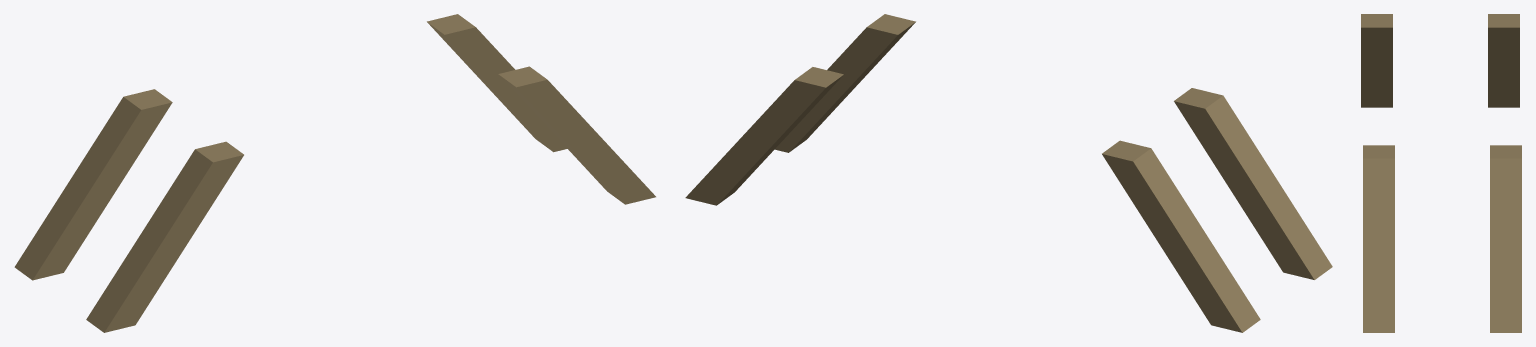
The model's file is TableLegs.fbx.
3 views of the same model, side by side, from view 1: azimuth 30°, elevation 25°; view 2: azimuth 150°, elevation 25°; view 3: azimuth 270°, elevation 25° (orthographic). The views are drawn at different scales.
Parts seen in each view (by area): view 1: pCube7, pCube8, pCube9, pCube10; view 2: pCube7, pCube8, pCube10, pCube9; view 3: pCube9, pCube10, pCube7, pCube8.
Boxes of the visible parts, x1,y1,x2,y2 form: pCube7: (14,89,172,280); pCube8: (86,141,243,332); pCube9: (498,66,655,204); pCube10: (427,14,567,152); pCube7: (1102,140,1260,332); pCube8: (1174,88,1332,279); pCube10: (685,67,843,205); pCube9: (775,14,915,152); pCube9: (1363,145,1394,332); pCube10: (1490,145,1521,332); pCube7: (1488,14,1519,107); pCube8: (1361,14,1392,107).
Size of the model in its own units: 13.25 by 3.29 by 3.77.
